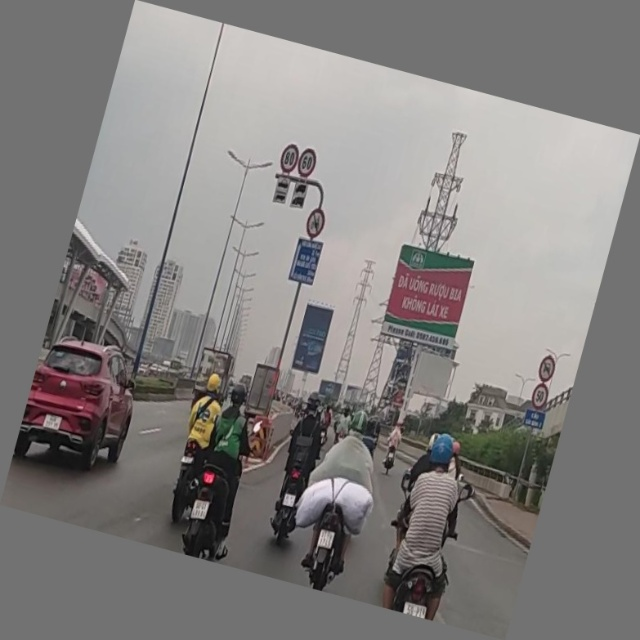P.103a: (538, 353, 558, 384)
P.104: (304, 207, 328, 237)
P.127*50: (529, 384, 548, 412)
P.127*60: (295, 147, 319, 179)
P.127*80: (277, 143, 302, 176)
